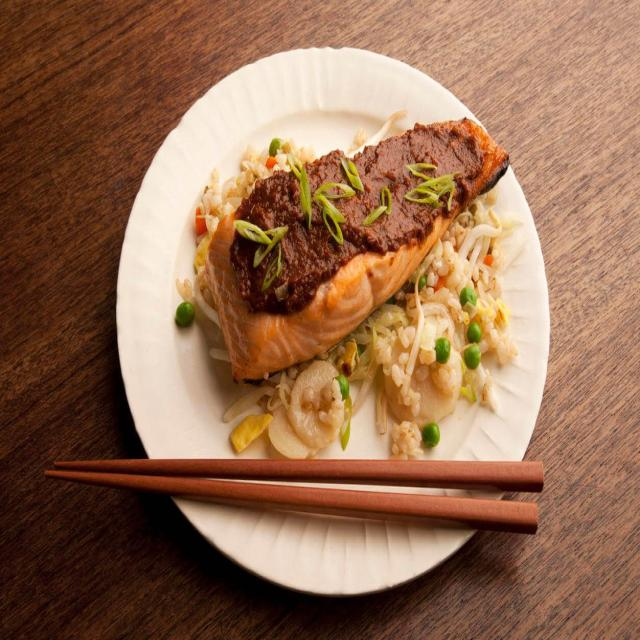carne de res: (197, 96, 511, 396)
